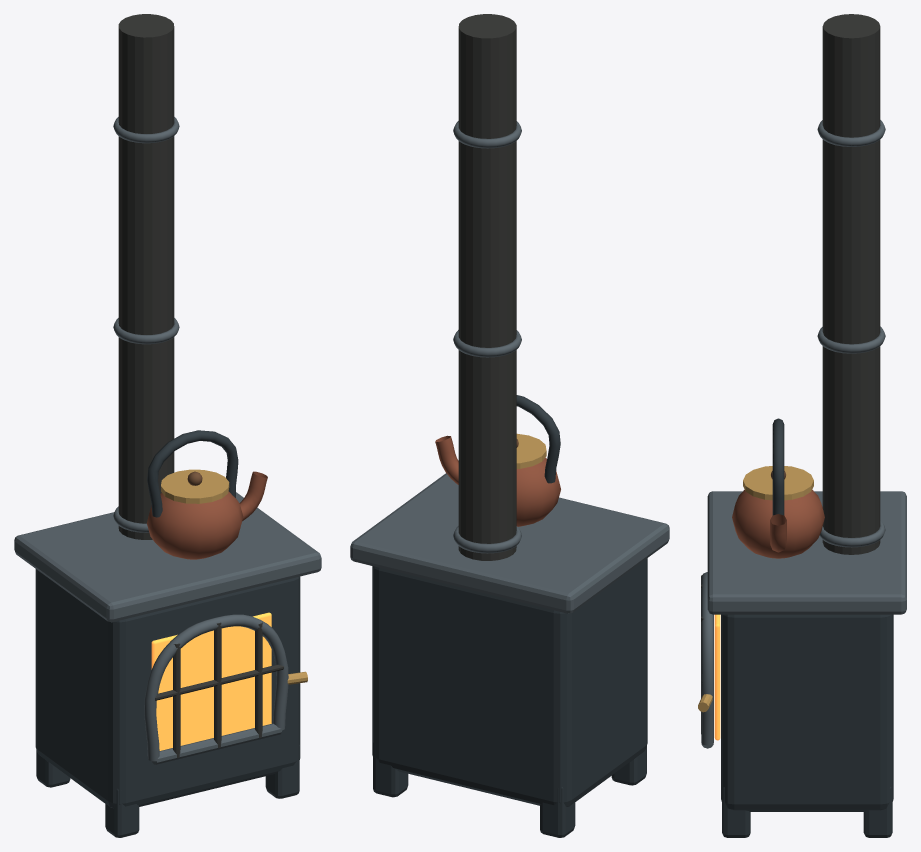
3 renders of one model, left to right at view 1: azimuth 30°, elevation 25°; view 2: azimuth 150°, elevation 25°; view 3: azimuth 270°, elevation 25°, orthographic. The views are drawn at different scales.
Visible parts, largest first — view 1: workshop_steel_dark, workshop_charcoal, workshop_steel, workshop_ember, workshop_leather, workshop_brass; view 2: workshop_steel_dark, workshop_charcoal, workshop_steel, workshop_leather, workshop_brass; view 3: workshop_steel_dark, workshop_charcoal, workshop_steel, workshop_leather, workshop_brass, workshop_ember.
Boxes of the visible parts, x1,y1,x2,y2 form: workshop_steel_dark: (35,430,300,837); workshop_charcoal: (118,14,283,757); workshop_steel: (14,117,321,764); workshop_ember: (151,612,271,750); workshop_leather: (146,471,267,559); workshop_brass: (161,469,307,684); workshop_steel_dark: (372,395,647,837); workshop_charcoal: (458,14,516,560); workshop_steel: (350,121,669,613); workshop_leather: (435,435,560,526); workshop_brass: (516,433,546,468); workshop_steel_dark: (721,418,893,837); workshop_charcoal: (701,14,880,733); workshop_steel: (701,120,906,748); workshop_leather: (732,489,824,558); workshop_brass: (698,466,813,712); workshop_ember: (714,614,720,740).
Size of the model in its own units: 1.15 by 3.82 by 0.9433.
